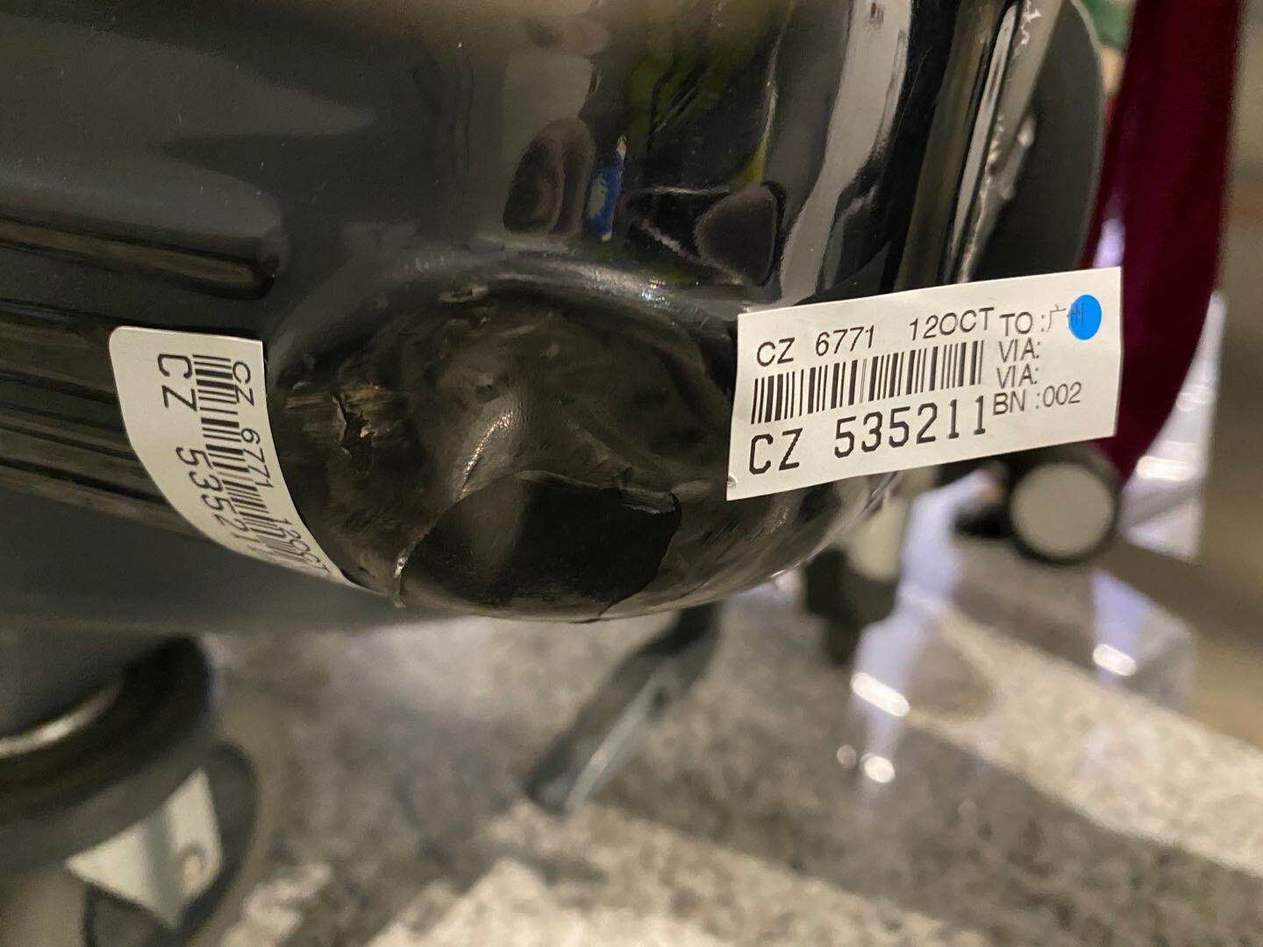rupture: (268, 242, 743, 609)
